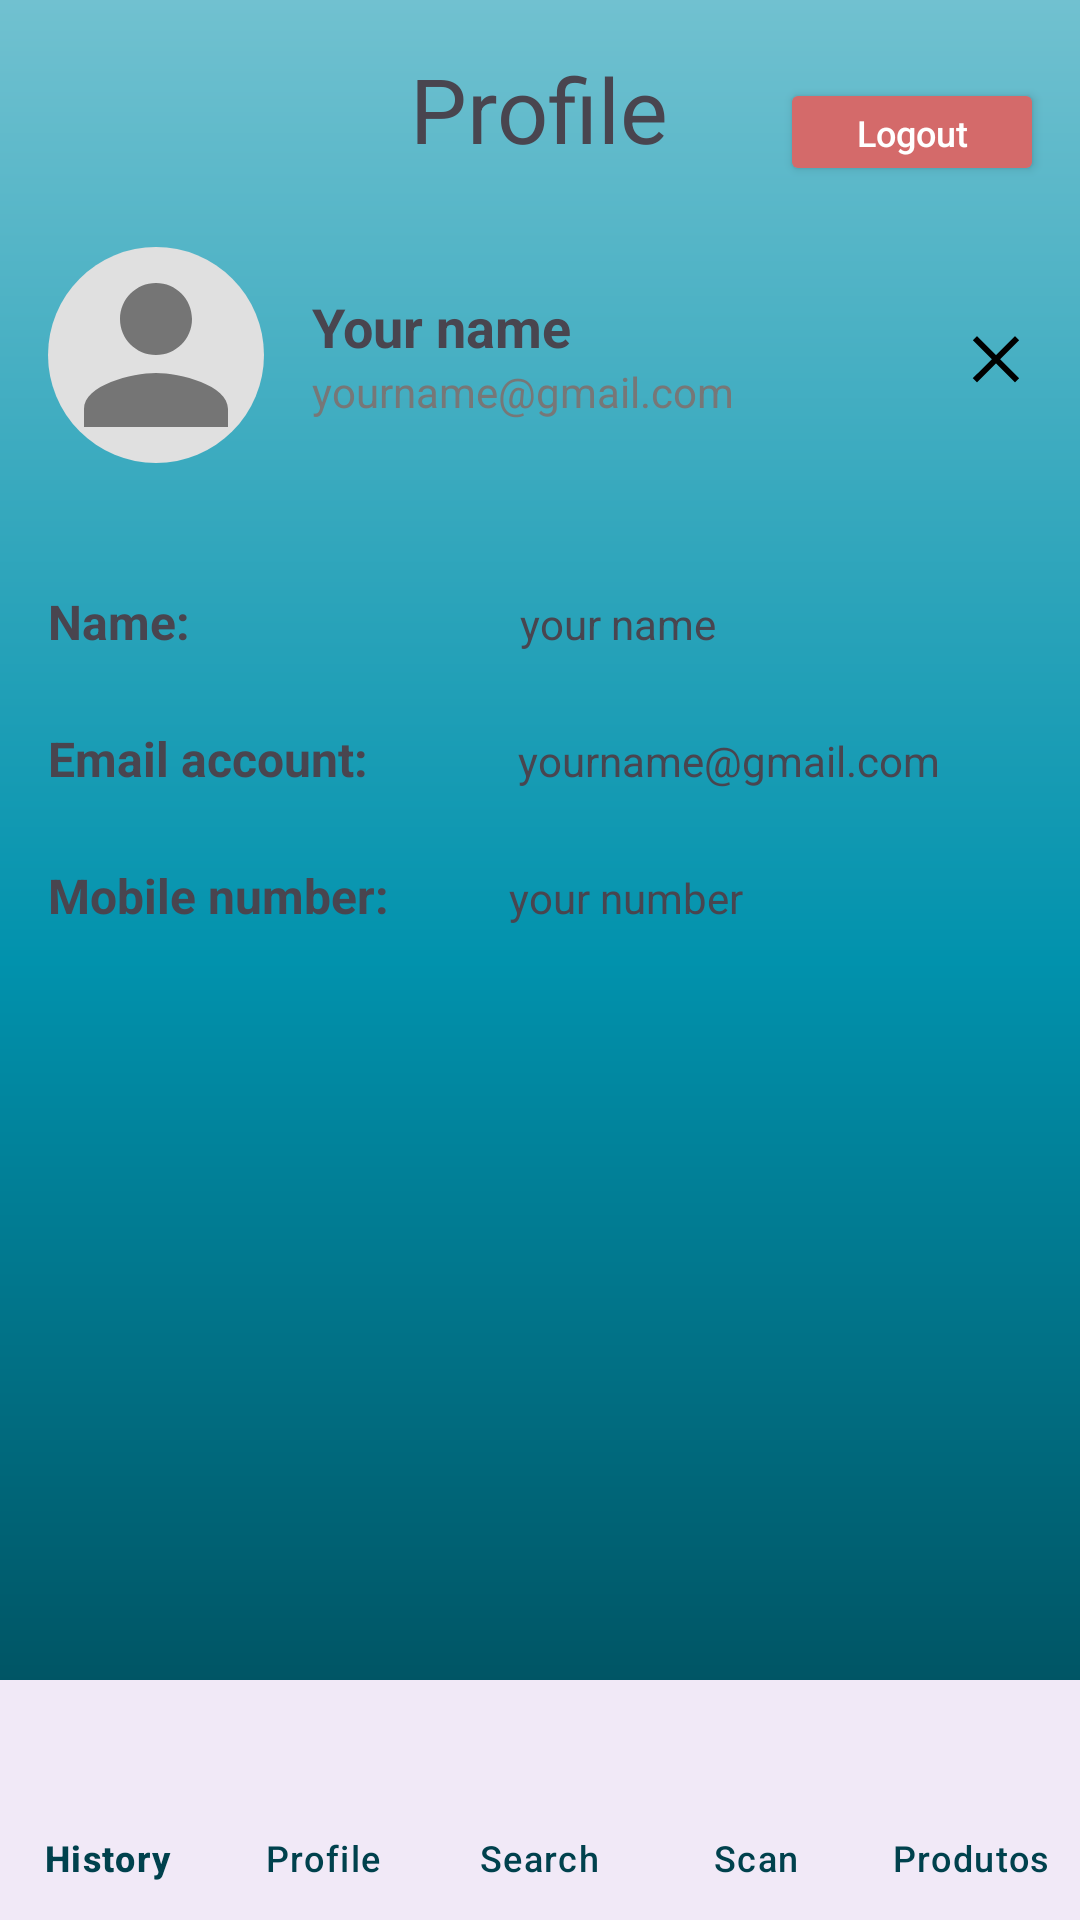

Screen size 1080 × 1920. Icon name, then its center in pixels as (x=x, y=y):
close: (x=996, y=359)
